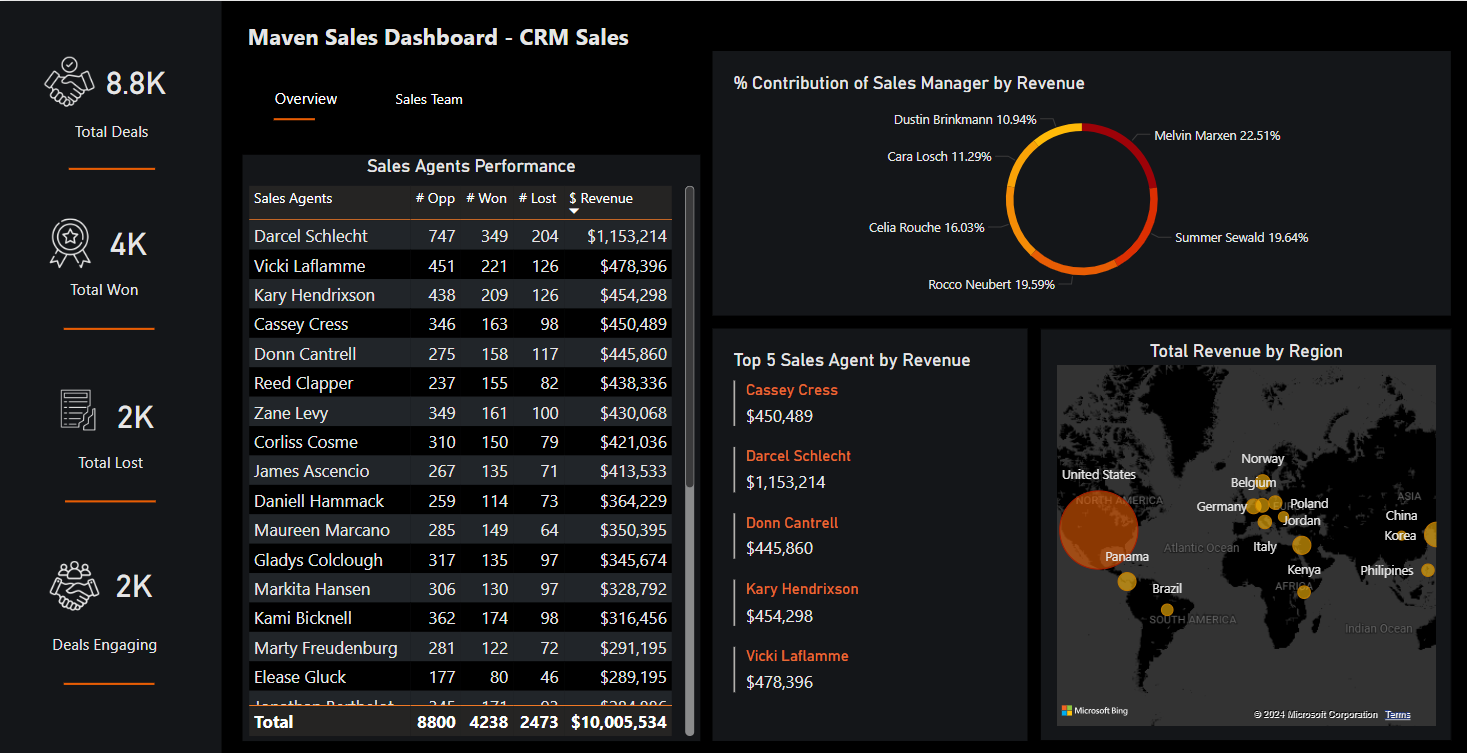

This screenshot's page, from the dashboard's own definition file:
{"tool":"powerbi","page":{"name":"Sales Team","canvas":[1400,720],"ordinal":1},"visuals":[{"type":"shape","box":[0,0,211,719.8],"z":0},{"type":"actionButton","box":[242.1,73.1,99.5,39.6],"z":1000},{"type":"shape","box":[261.3,99.5,39.6,25.2],"z":2000},{"type":"actionButton","box":[359.5,72.6,98.8,40.5],"z":3000},{"type":"multiRowCard","title":"Top 5 Sales Agent by Revenue","fields":{"Values":["sales_teams.sales_agent","sales_pipeline.close_value"]},"box":[678.4,312.3,300.2,392.5],"z":4000},{"type":"card","title":"Total Revenue","fields":{"Values":["sales_pipeline.account"]},"box":[91.5,48.9,75.7,53.7],"z":5000},{"type":"textbox","box":[49.1,108.1,115.1,39.6],"z":6000},{"type":"shape","box":[64.9,147.7,82.2,24.5],"z":7000},{"type":"card","title":"Total Revenue","fields":{"Values":["sales_pipeline.account"]},"box":[91.5,202,61.5,53.7],"z":8000},{"type":"textbox","box":[41.8,259.1,115.4,40.4],"z":9000},{"type":"shape","box":[60.6,299.5,86.6,24.5],"z":10000},{"type":"card","title":"Total Revenue","fields":{"Values":["sales_pipeline.account"]},"box":[99,367.9,60.6,53.4],"z":11000},{"type":"textbox","box":[47,424.2,115.4,40.4],"z":12000},{"type":"shape","box":[61.5,464.6,86.6,24.5],"z":13000},{"type":"card","title":"Total Revenue","fields":{"Values":["sales_pipeline.account"]},"box":[97.8,528.6,60,53.7],"z":14000},{"type":"shape","box":[60.6,637.7,86.6,24.5],"z":15000},{"type":"textbox","box":[31.7,597.3,135.6,40.4],"z":16000},{"type":"map","title":"Total Revenue by Region","fields":{"Size":["accounts.revenue"],"Category":["accounts.office_location"]},"box":[990.5,311.9,391.7,392.9],"z":17000},{"type":"image","box":[26.8,47.3,77.3,58.4],"z":18000},{"type":"image","box":[31.6,202,69.4,56.8],"z":19000},{"type":"image","box":[47.3,355.1,53.7,69.4],"z":20000},{"type":"image","box":[31.6,528.6,77.3,56.8],"z":21000},{"type":"tableEx","title":"Sales Agents Performance","fields":{"Values":["sales_teams.sales_agent","sales_pipeline.opportunity_id","sales_pipeline.Count of deal_stage for Won","sales_pipeline.Count of deal_stage for Lost","sales_pipeline.close_value"]},"box":[231,146.4,435.7,558.3],"z":22000},{"type":"donutChart","title":"% Contribution of Sales Manager by Revenue","fields":{"Category":["sales_teams.manager"],"Y":["sales_pipeline.close_value"]},"box":[678.6,47.6,703.6,252.4],"z":23000},{"type":"textbox","box":[230.6,14.2,404.1,60.9],"z":24000}]}

Visuals, with their boxes in screenshot pixels (x1, y1, x2, y2), scaled from the page's 1400x720 canvas onto the 1467x753 screenshot:
shape: left=0, top=0, right=221, bottom=752
actionButton: left=254, top=76, right=358, bottom=118
shape: left=274, top=104, right=315, bottom=130
actionButton: left=377, top=76, right=480, bottom=118
"Top 5 Sales Agent by Revenue" multiRowCard: left=711, top=327, right=1025, bottom=737
"Total Revenue" card: left=96, top=51, right=175, bottom=107
textbox: left=51, top=113, right=172, bottom=154
shape: left=68, top=154, right=154, bottom=180
"Total Revenue" card: left=96, top=211, right=160, bottom=267
textbox: left=44, top=271, right=165, bottom=313
shape: left=64, top=313, right=154, bottom=339
"Total Revenue" card: left=104, top=385, right=167, bottom=441
textbox: left=49, top=444, right=170, bottom=486
shape: left=64, top=486, right=155, bottom=512
"Total Revenue" card: left=102, top=553, right=165, bottom=609
shape: left=64, top=667, right=154, bottom=693
textbox: left=33, top=625, right=175, bottom=667
"Total Revenue by Region" map: left=1038, top=326, right=1448, bottom=737
image: left=28, top=49, right=109, bottom=111
image: left=33, top=211, right=106, bottom=271
image: left=50, top=371, right=106, bottom=444
image: left=33, top=553, right=114, bottom=612
"Sales Agents Performance" tableEx: left=242, top=153, right=699, bottom=737
"% Contribution of Sales Manager by Revenue" donutChart: left=711, top=50, right=1448, bottom=314
textbox: left=242, top=15, right=665, bottom=79
